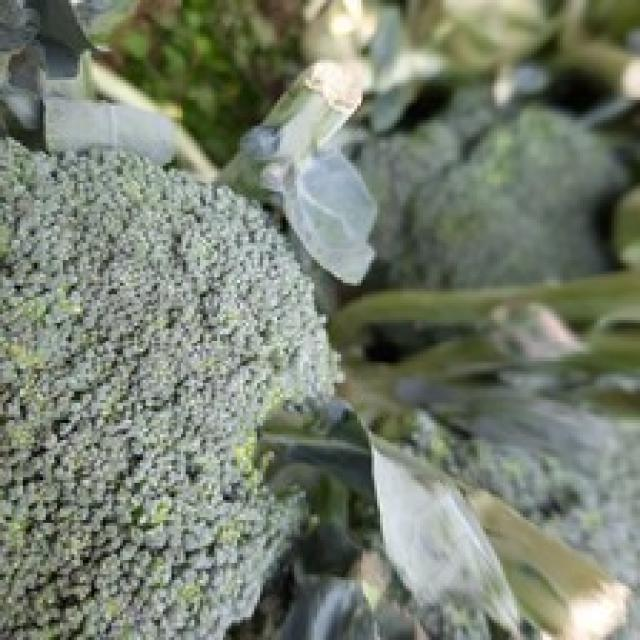Broccoli: (0, 140, 331, 639), (0, 140, 330, 639), (355, 90, 626, 287), (355, 90, 625, 287)
